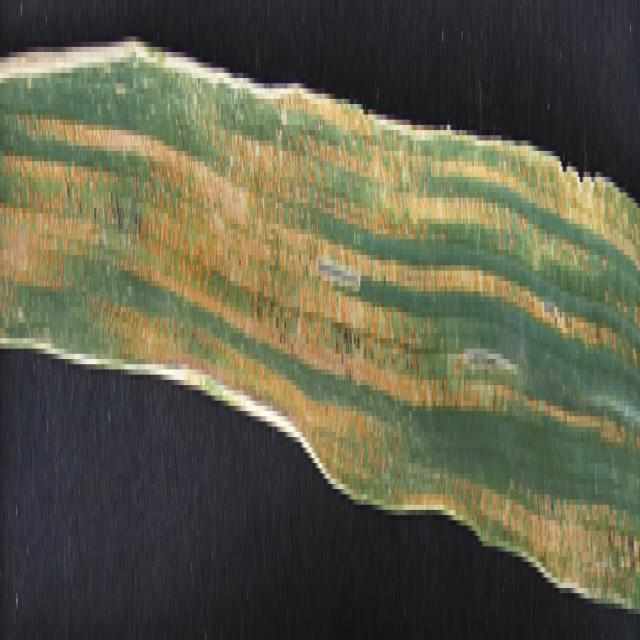leaf rust: (1, 68, 640, 619)
